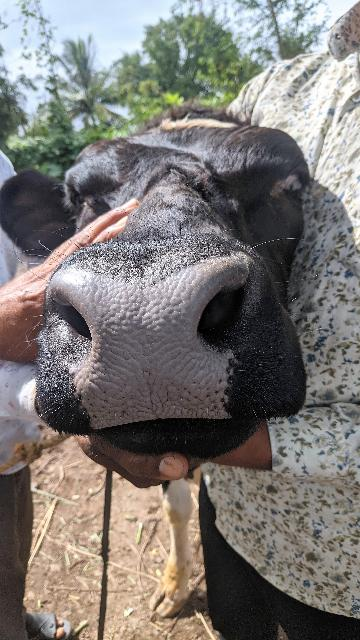Muzzle: (74, 272, 218, 418)
